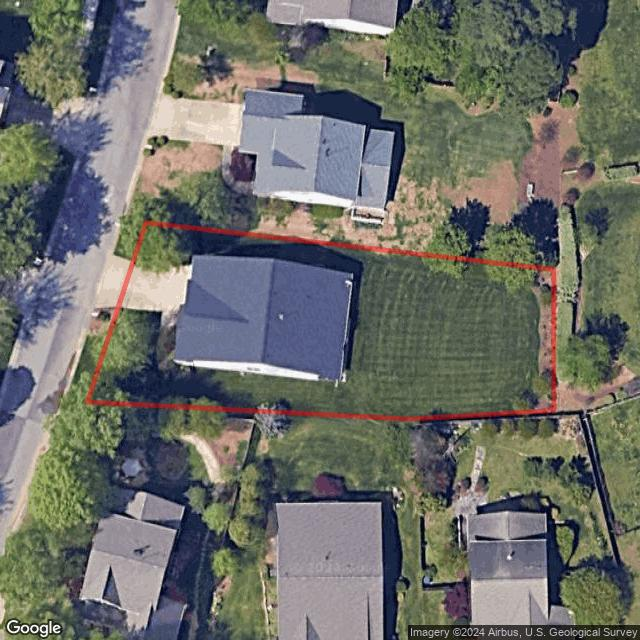Driveway: (118, 262, 193, 315)
Extra-Driveway: (91, 252, 133, 309)
Extra-Lawn: (66, 308, 118, 402), (112, 216, 148, 263)
House: (171, 256, 353, 385)
Lawn: (86, 221, 556, 420)
Other: (531, 269, 556, 413), (157, 325, 191, 381)
Sidewalk: (161, 311, 178, 327)
